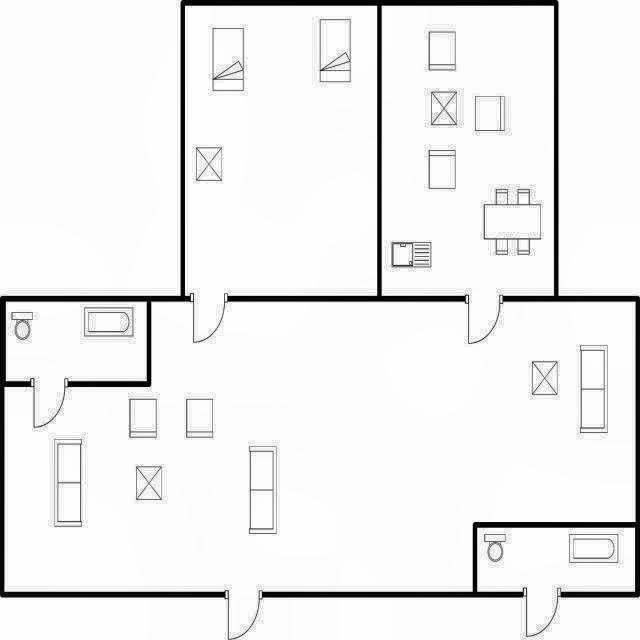room: (4, 302, 636, 592), (185, 6, 377, 296), (382, 6, 554, 296), (6, 302, 147, 381), (477, 528, 635, 592)
